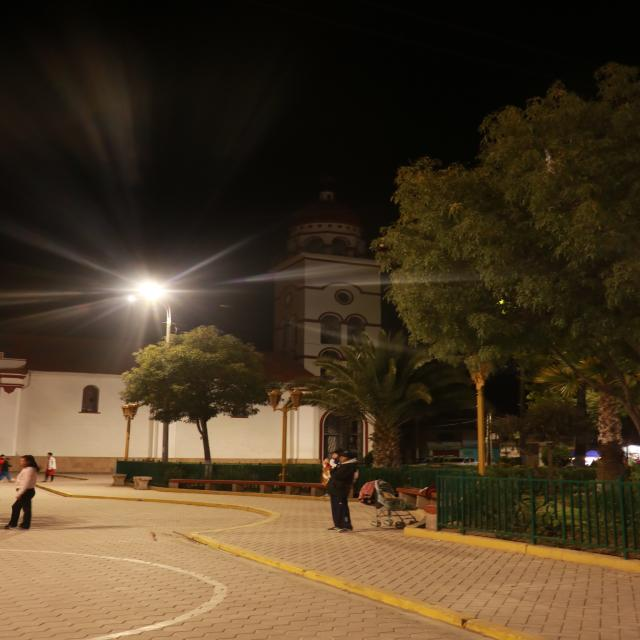CAMPANARIO: (266, 259, 402, 398)
CUPULA: (286, 196, 390, 263)
TORRES: (260, 166, 440, 504)
colonial-architecture-: (0, 167, 471, 486)
